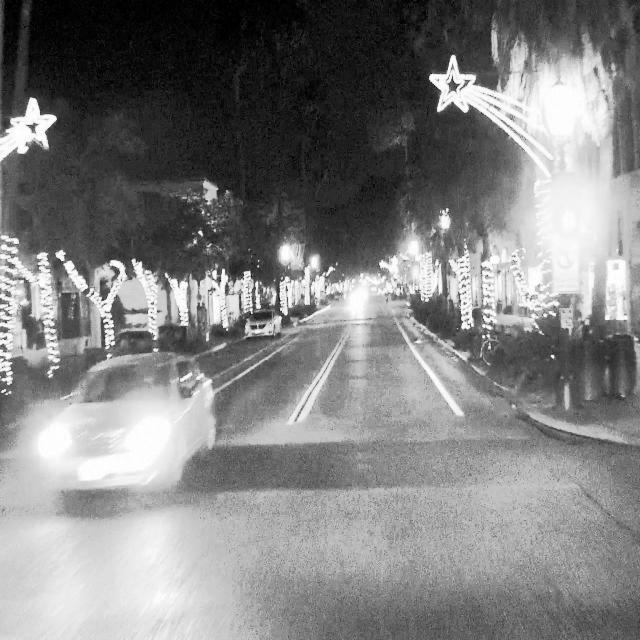Car: (38, 351, 221, 490)
Light: (554, 172, 580, 233)
Sign: (553, 238, 579, 293)
